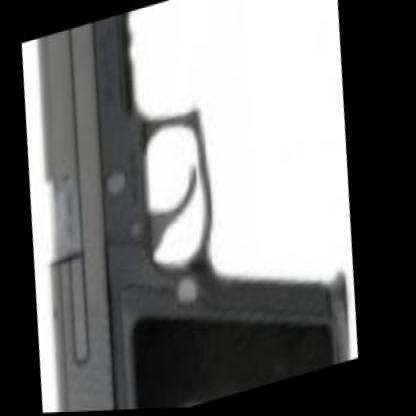pistol: (0, 0, 382, 413)
